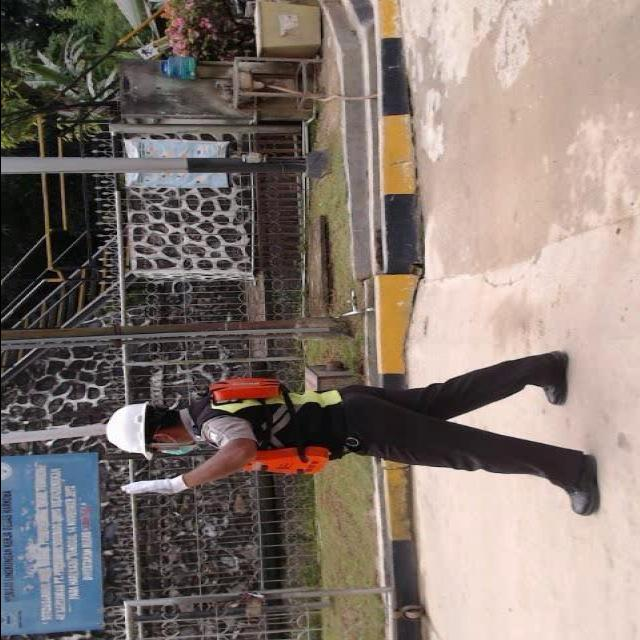helmet: (99, 398, 157, 463)
